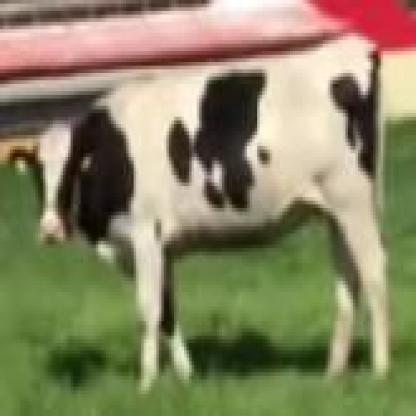cow: (12, 38, 390, 389)
